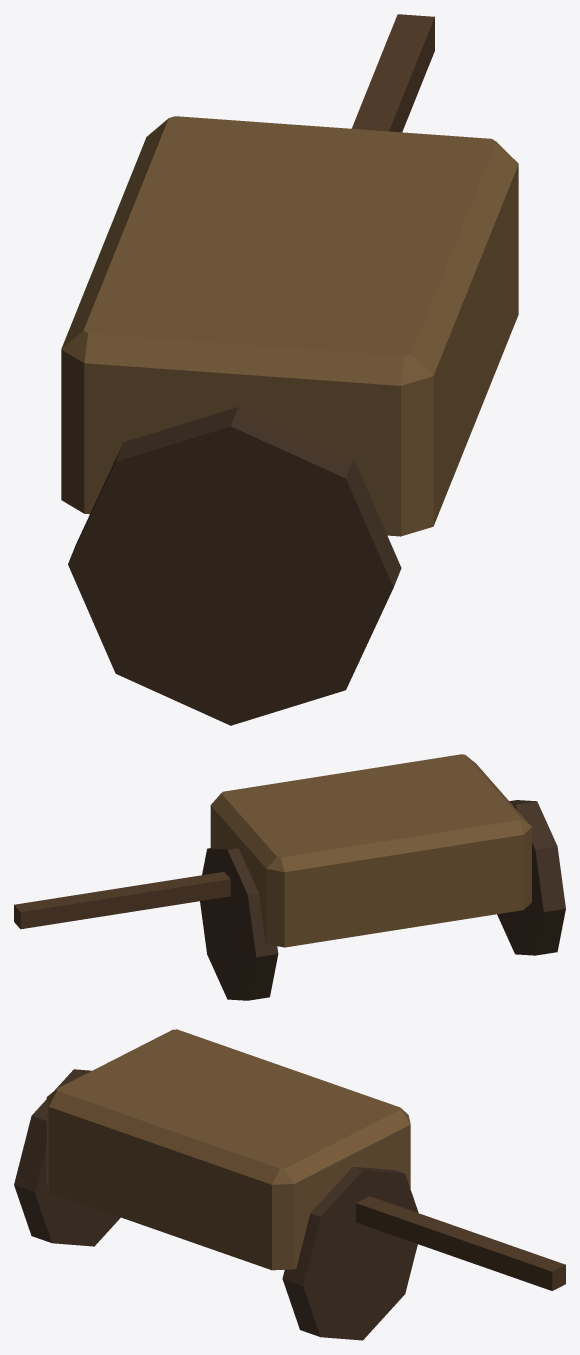
Rendered from handcart.glb.
The picture shows the model from 3 angles, top to bottom: view 1: azimuth 30°, elevation 25°; view 2: azimuth 150°, elevation 25°; view 3: azimuth 270°, elevation 25°; orthographic projection. The views are drawn at different scales.
Parts seen in each view (by area): view 1: Handcart; view 2: Handcart; view 3: Handcart.
Part boxes in pixels (x1,y1,x2,y2): Handcart: (61, 14, 518, 725); Handcart: (14, 754, 565, 1000); Handcart: (14, 1029, 565, 1340).
Bounding box in the file's own units: 0.1799 × 0.08 × 0.2059.
